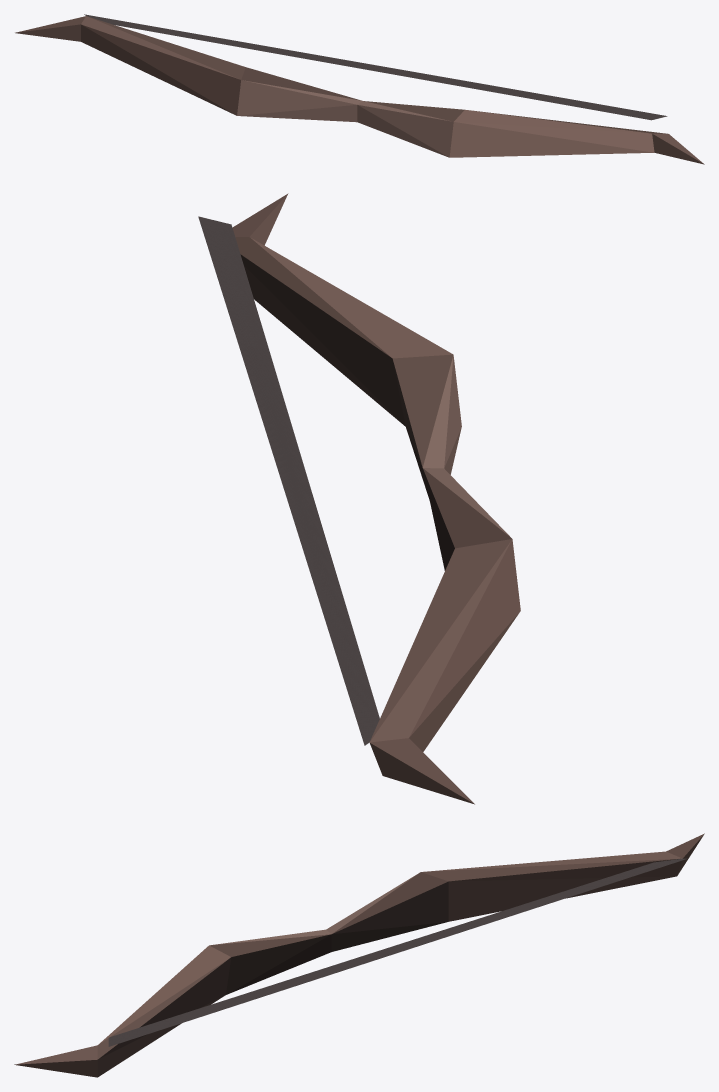
The model's file is maple-longbow.obj.
3 views of the same model, one above another, from view 1: azimuth 30°, elevation 25°; view 2: azimuth 150°, elevation 25°; view 3: azimuth 270°, elevation 25° (orthographic). The views are drawn at different scales.
Visible parts, largest first — view 1: Item Maple longbow 2026-09-24_13-47-42; view 2: Item Maple longbow 2026-09-24_13-47-42; view 3: Item Maple longbow 2026-09-24_13-47-42.
Part boxes in pixels (x1,y1,x2,y2): Item Maple longbow 2026-09-24_13-47-42: [15, 14, 704, 164]; Item Maple longbow 2026-09-24_13-47-42: [198, 193, 520, 804]; Item Maple longbow 2026-09-24_13-47-42: [14, 833, 704, 1077].
Bounding box in the file's own units: 95 × 9 × 124.
